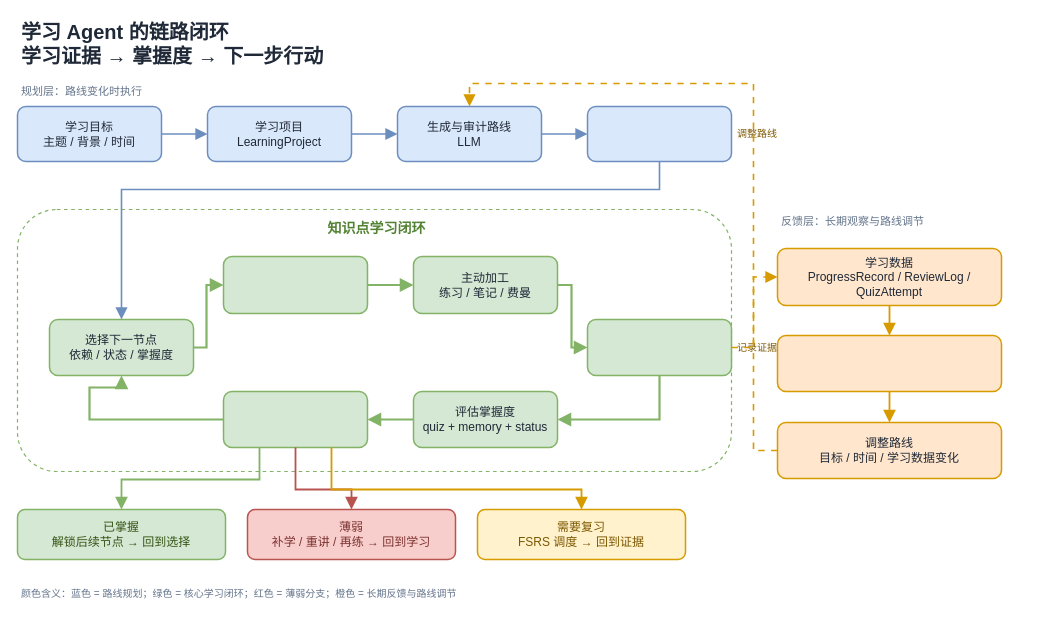
The diagram is 1037 pixels wide and 620 high, and some of its shapes have lost their labels. Here are the shapes that lost their labels. From the top down, the box of each, then its label:
(586, 105, 732, 162): 知识路线 DAG KnowledgeNode + 依赖边
(222, 255, 368, 314): 接收与理解 课程 / 资料 / 助教
(586, 318, 732, 376): 产生学习证据 测验 / FSRS / 实操
(776, 334, 1002, 392): 看板与日报 观察长期趋势
(222, 390, 368, 448): 决定下一动作 继续 / 补学 / 复习
